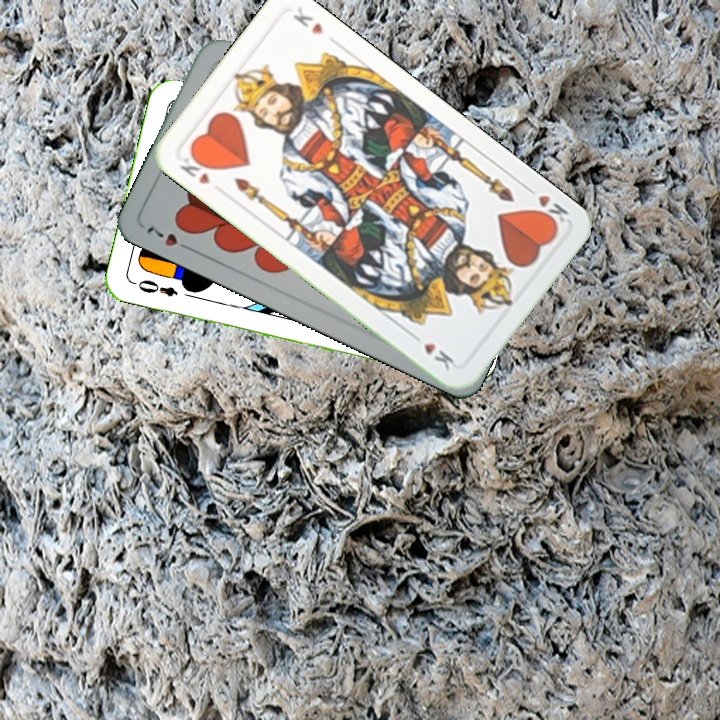EO: (129, 275, 180, 300)
H7: (142, 221, 196, 254)
HK: (520, 181, 572, 231), (175, 149, 215, 187)
